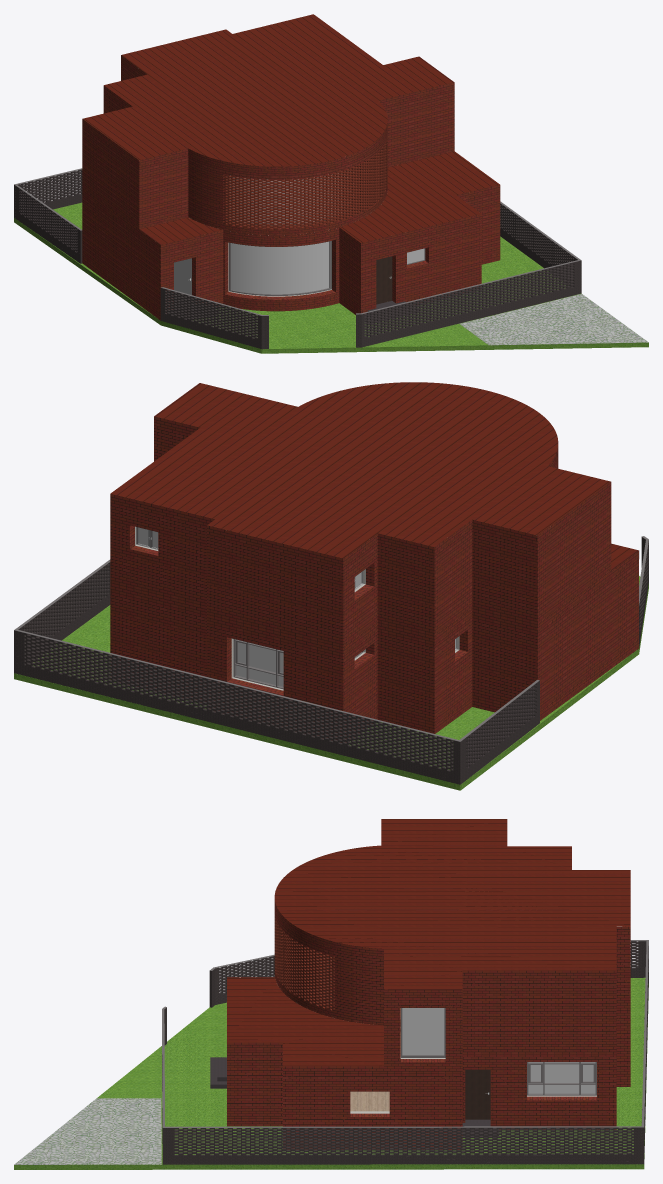
The model's file is building.glb.
3 views of the same model, one above another, from view 1: azimuth 30°, elevation 25°; view 2: azimuth 150°, elevation 25°; view 3: azimuth 270°, elevation 25° (orthographic). The views are drawn at different scales.
Visible parts, largest first — view 1: ID81, ID279, ID54066, ID57074, ID279_1, ID57095, ID56859; view 2: ID81, ID279, ID54066, ID57074, ID279_1; view 3: ID279, ID81, ID54066, ID57074, ID57095, ID279_1, ID56859, ID159, ID172.
Boxes of the visible parts, box(x1,y1,x2,y2) form: ID81: box(82, 55, 500, 320); ID279: box(82, 14, 499, 244); ID54066: box(14, 169, 581, 349); ID57074: box(14, 202, 648, 353); ID279_1: box(14, 168, 581, 315); ID57095: box(459, 294, 648, 345); ID56859: box(376, 256, 392, 304); ID81: box(110, 416, 638, 742); ID279: box(110, 382, 638, 570); ID54066: box(14, 537, 648, 784); ID57074: box(14, 576, 648, 790); ID279_1: box(14, 527, 648, 741); ID279: box(227, 819, 630, 1066); ID81: box(227, 899, 630, 1149); ID54066: box(162, 941, 648, 1164); ID57074: box(14, 977, 648, 1169); ID57095: box(14, 1098, 161, 1164); ID279_1: box(162, 940, 648, 1127); ID56859: box(465, 1069, 490, 1119); ID159: box(210, 1057, 498, 1137); ID172: box(350, 1008, 400, 1111).
Size of the model in its own units: 15.88 by 6.5 by 22.65.
Materials: 20 (20 with a texture image).
